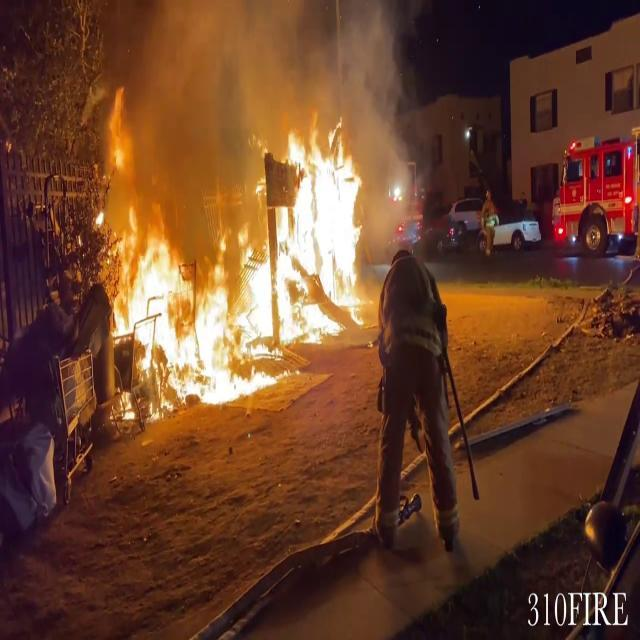Fire: (88, 106, 376, 414)
Smoke: (102, 0, 426, 162)
